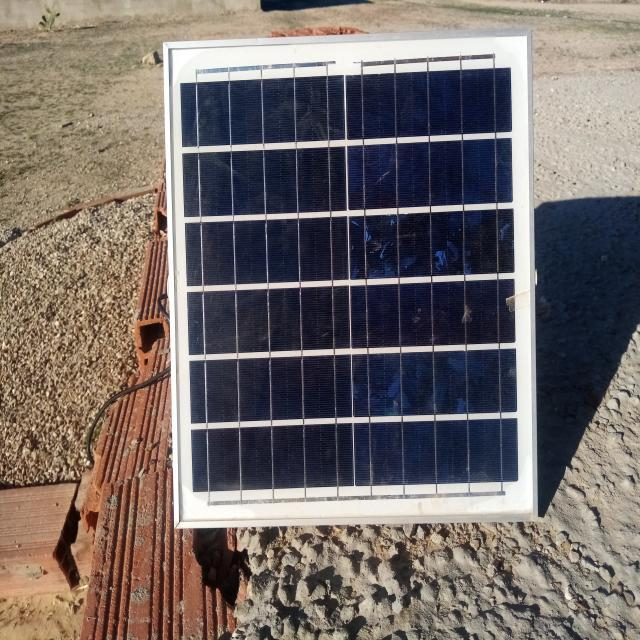faulty: (165, 32, 537, 526)
